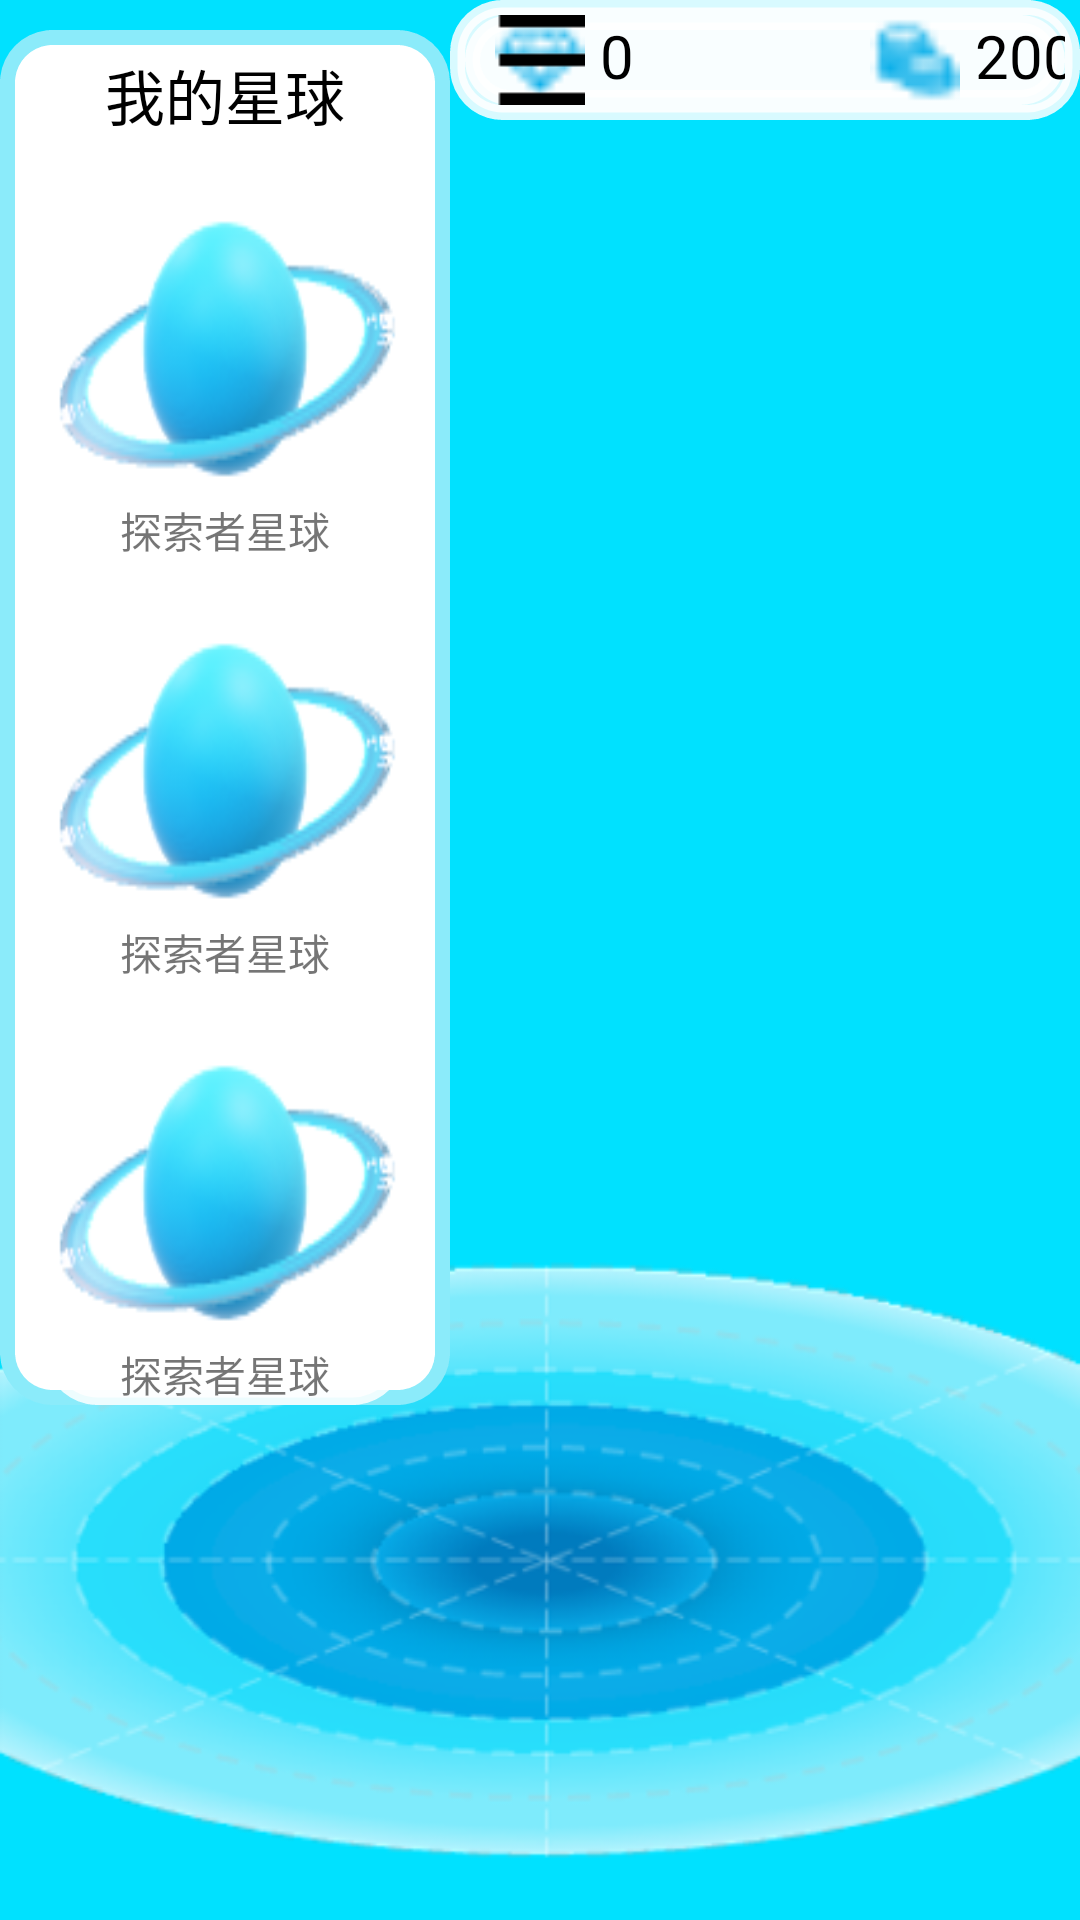

Locate icon controls on the screen. Image size 1080px x 1920px, boxes as region(x1, y1, x2, y2).
gold: region(874, 21, 960, 100)
